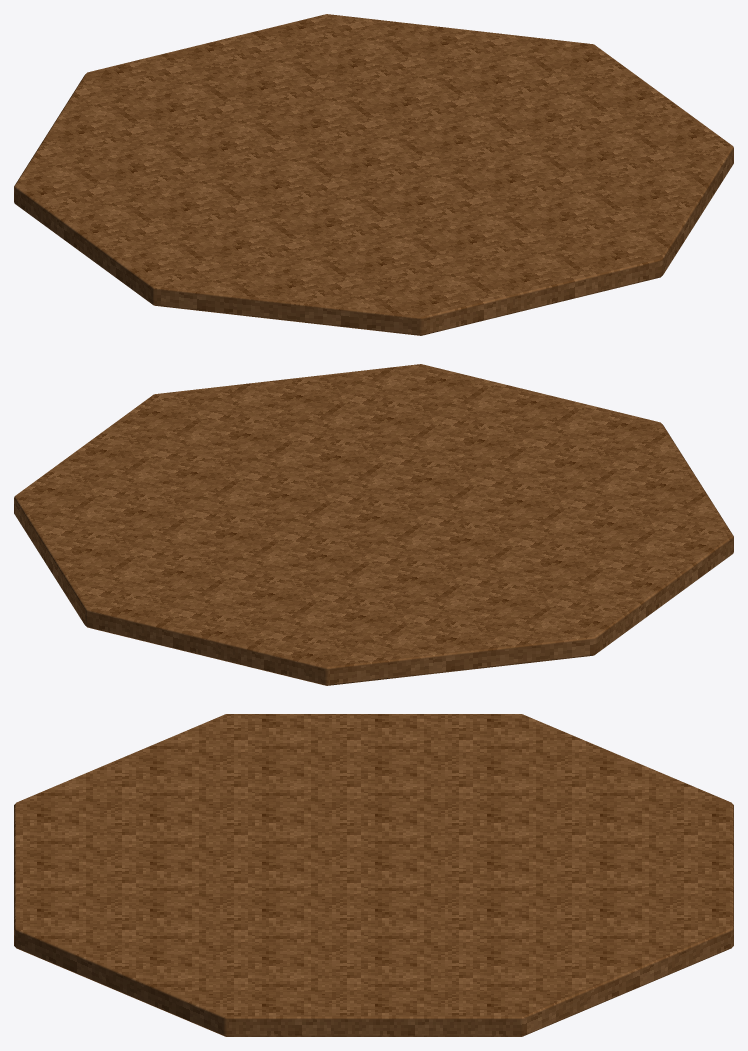
File: Foundation.glb
3 views of the same model, one above another, from view 1: azimuth 30°, elevation 25°; view 2: azimuth 150°, elevation 25°; view 3: azimuth 270°, elevation 25° (orthographic). The views are drawn at different scales.
Visible parts, largest first — view 1: Foundation; view 2: Foundation; view 3: Foundation.
Boxes of the visible parts, x1=… form: Foundation: x1=14, y1=14, x2=733, y2=335; Foundation: x1=14, y1=364, x2=733, y2=685; Foundation: x1=14, y1=714, x2=733, y2=1036.
Size of the model in its own units: 8 by 0.252 by 8.
1 material, 1 textured.
